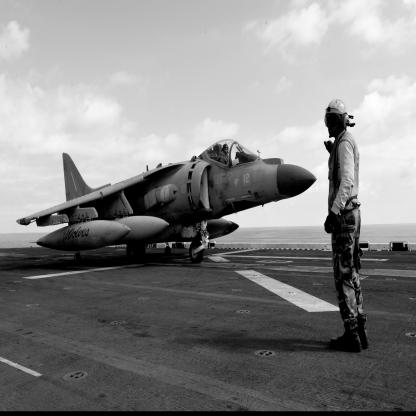AV8B: (17, 140, 318, 266)
